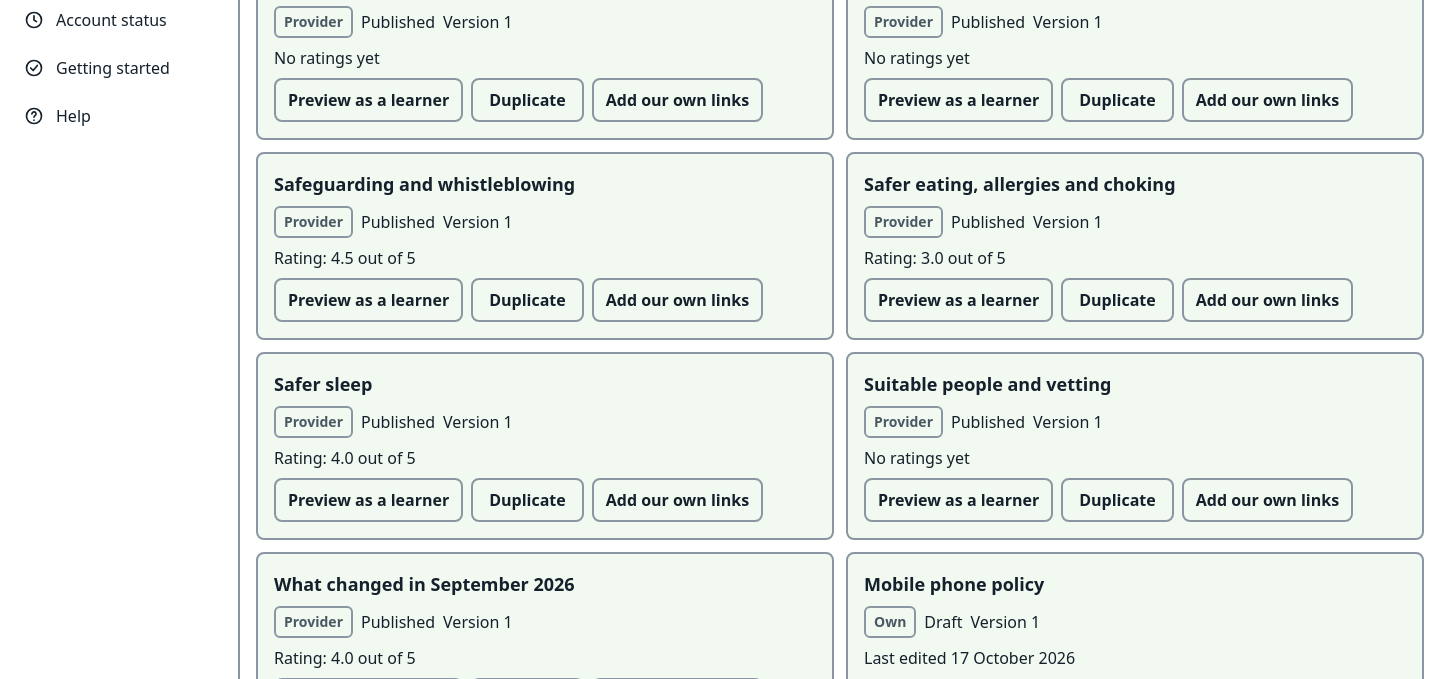
Test: C6 Module Library › duplicates a provider module into an own draft, shows the responsibility note and lists the copy
The width and height of the screenshot is (1440, 679).
(page scrolled)
Click the button "Duplicate" below "Rating: 4.5 out of 5". click: {"x": 527, "y": 300}
box: [471, 278, 584, 322]
(page scrolled)
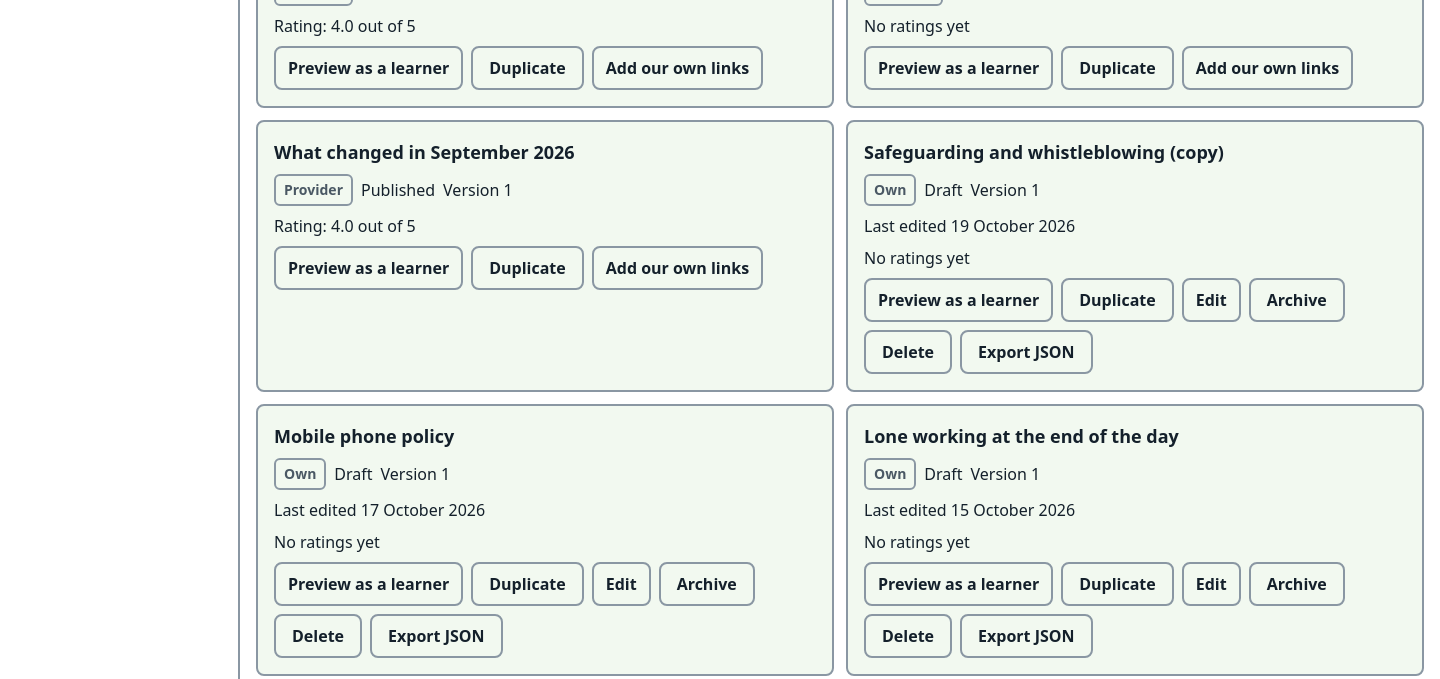
Check: the list item with test id "module-item" shows "Own", box [874, 180, 906, 199]
Check: the list item with test id "module-item" shows "Draft", box [924, 179, 962, 201]
Check: the link "Edit" below "Last edited 19 October 2026" is shown, box [1182, 278, 1241, 322]
